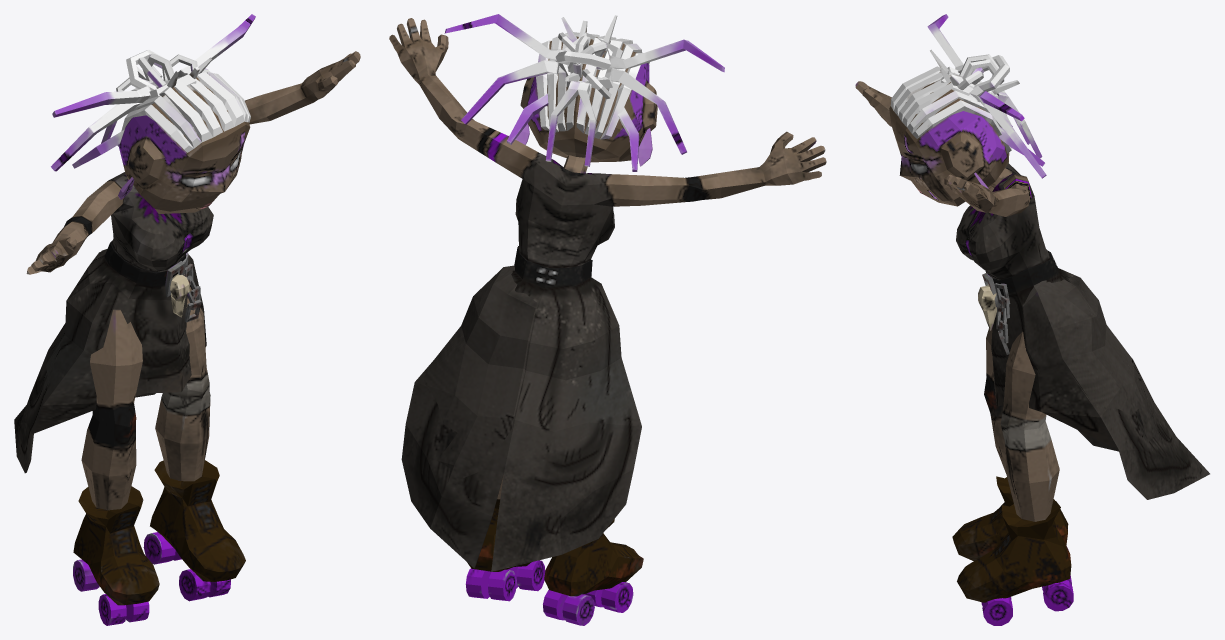
File: bruja_000132.obj
3 renders of one model, left to right at view 1: azimuth 30°, elevation 25°; view 2: azimuth 150°, elevation 25°; view 3: azimuth 270°, elevation 25°, orthographic. The views are drawn at different scales.
Visible parts, largest first — view 1: Bruja_Plane.001; view 2: Bruja_Plane.001; view 3: Bruja_Plane.001.
Boxes of the visible parts, box(x1,y1,x2,y2) form: Bruja_Plane.001: box(14, 14, 360, 625); Bruja_Plane.001: box(389, 14, 826, 625); Bruja_Plane.001: box(855, 14, 1209, 625).
Bounding box in the file's own units: 11.34 × 16.17 × 9.62.
